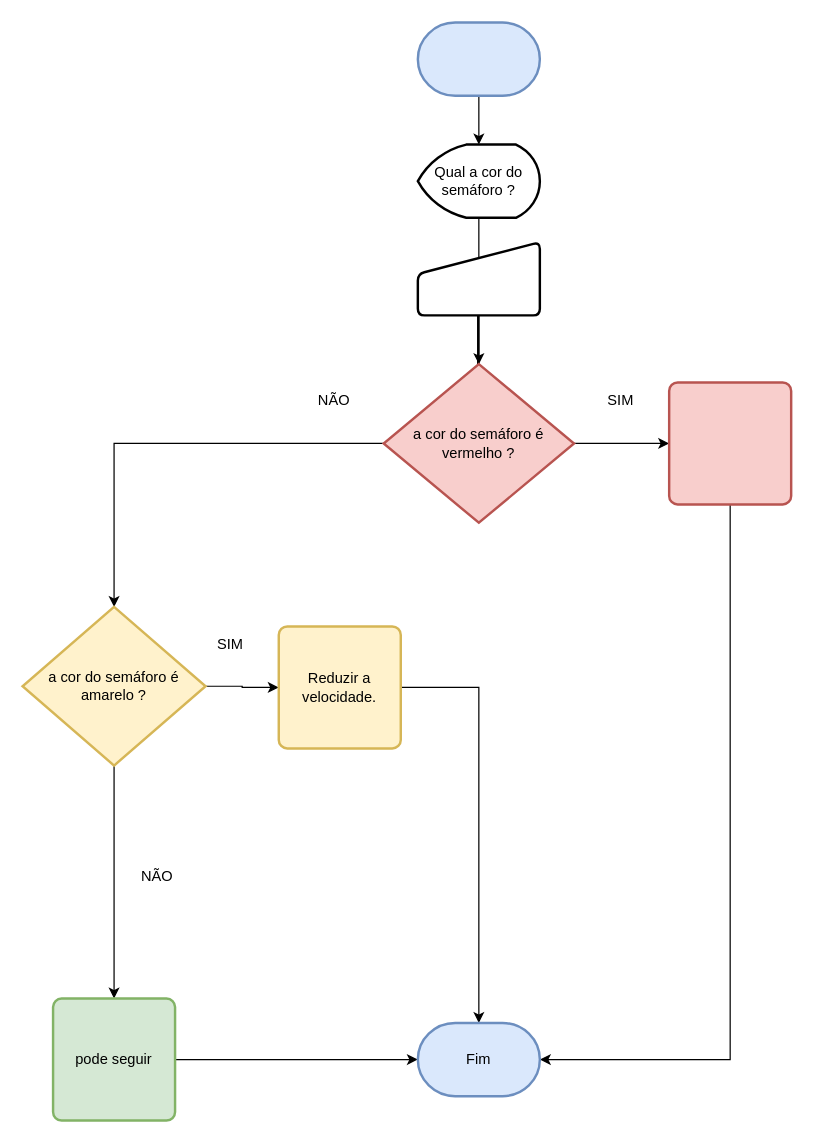
The diagram is 813 pixels wide and 1142 high, and some of its shapes have lost their labels. Here are the shapes that lost their labels. From the top down, the box of each, then its label:
(416, 21, 540, 96): Início
(416, 240, 540, 316): Cor do semáforo
(667, 381, 792, 505): Frear e parar o carro.
